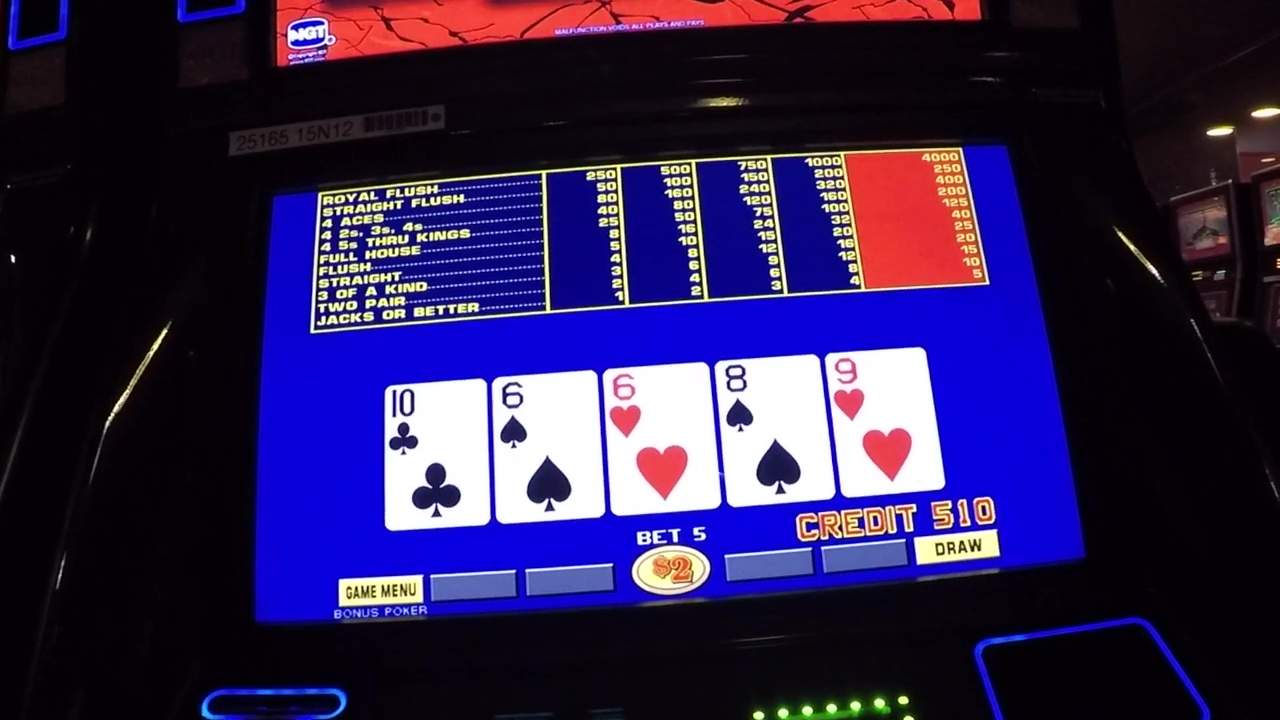CT: (387, 386, 486, 456)
H6: (611, 368, 710, 443)
H9: (834, 352, 925, 420)
S6: (495, 376, 595, 449)
S8: (723, 363, 820, 435)
